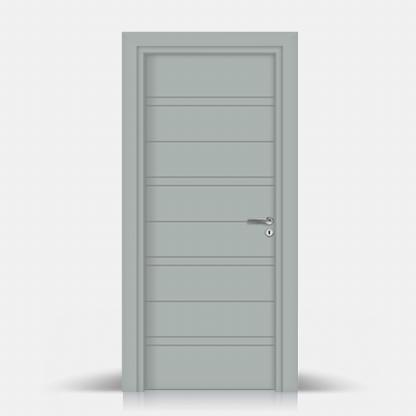door: (130, 28, 285, 408)
